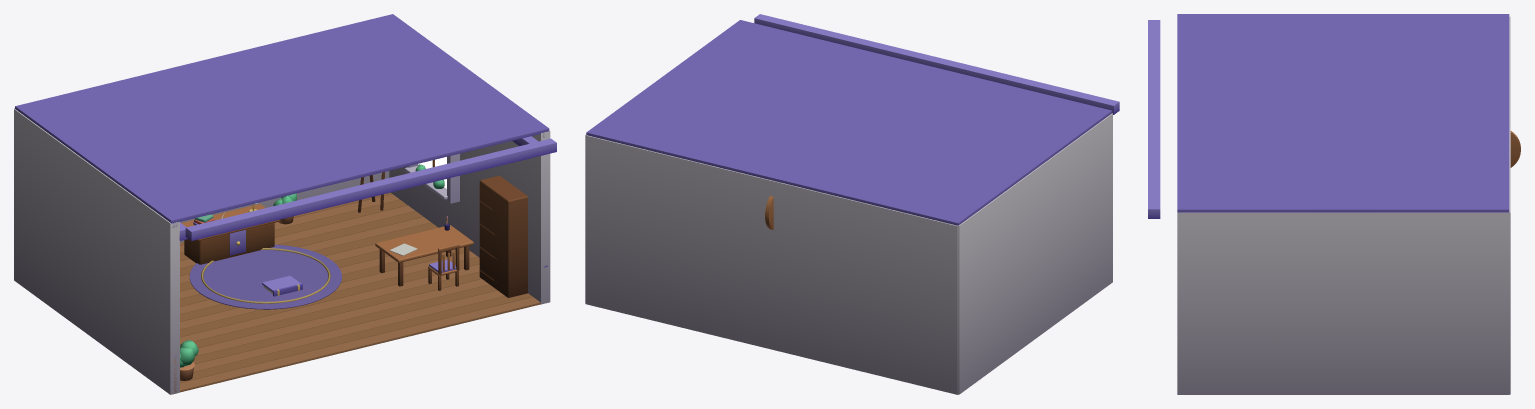
Rendered from classroom.glb.
3 views of the same model, side by side, from view 1: azimuth 30°, elevation 25°; view 2: azimuth 150°, elevation 25°; view 3: azimuth 270°, elevation 25° (orthographic). The views are drawn at different scales.
Parts seen in each view (by area): view 1: classroom_mesh, book_mesh; view 2: classroom_mesh; view 3: classroom_mesh.
Part boxes in pixels (x1,y1,x2,y2): classroom_mesh: (14,14,556,394); book_mesh: (262,275,302,296); classroom_mesh: (585,14,1119,394); classroom_mesh: (1148,14,1520,394).
Size of the model in its own units: 12.06 by 5.34 by 9.66.
